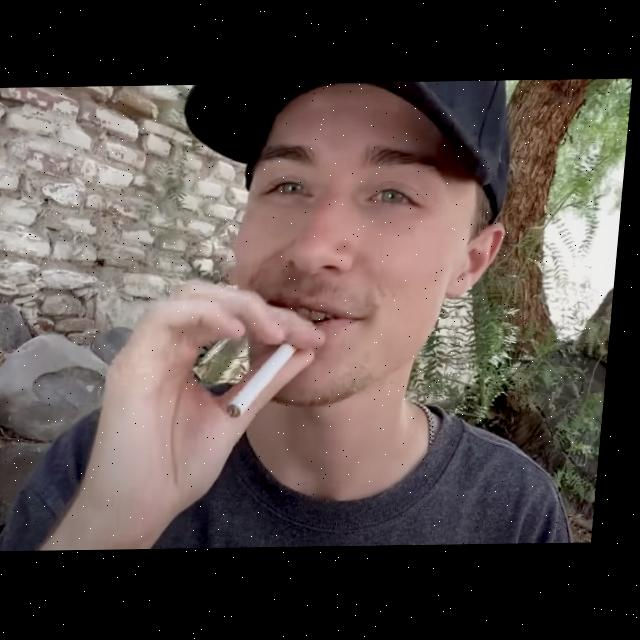cigarette: (231, 345, 305, 420)
